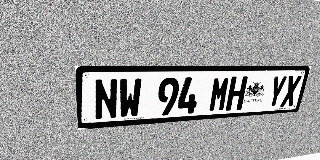4: (177, 77, 200, 114)
9: (157, 77, 180, 116)
H: (225, 76, 248, 111)
M: (208, 77, 231, 112)
N: (93, 78, 118, 120)
W: (118, 78, 142, 119)
X: (280, 75, 302, 107)
Y: (266, 76, 288, 108)
